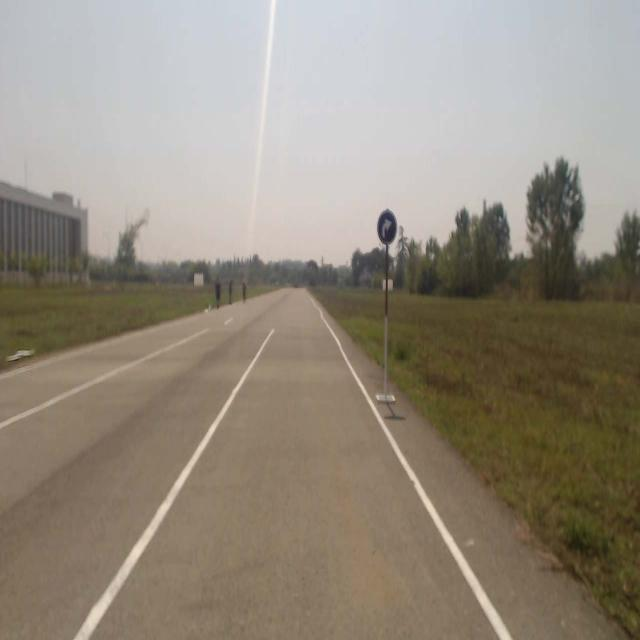sag: (378, 210, 397, 243)
